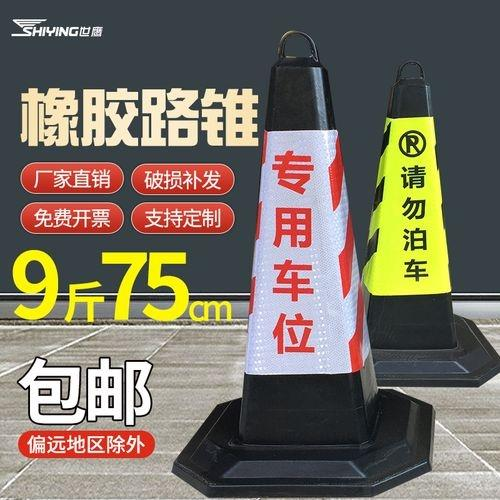cone_barrel: (209, 33, 387, 469), (345, 59, 476, 379)
